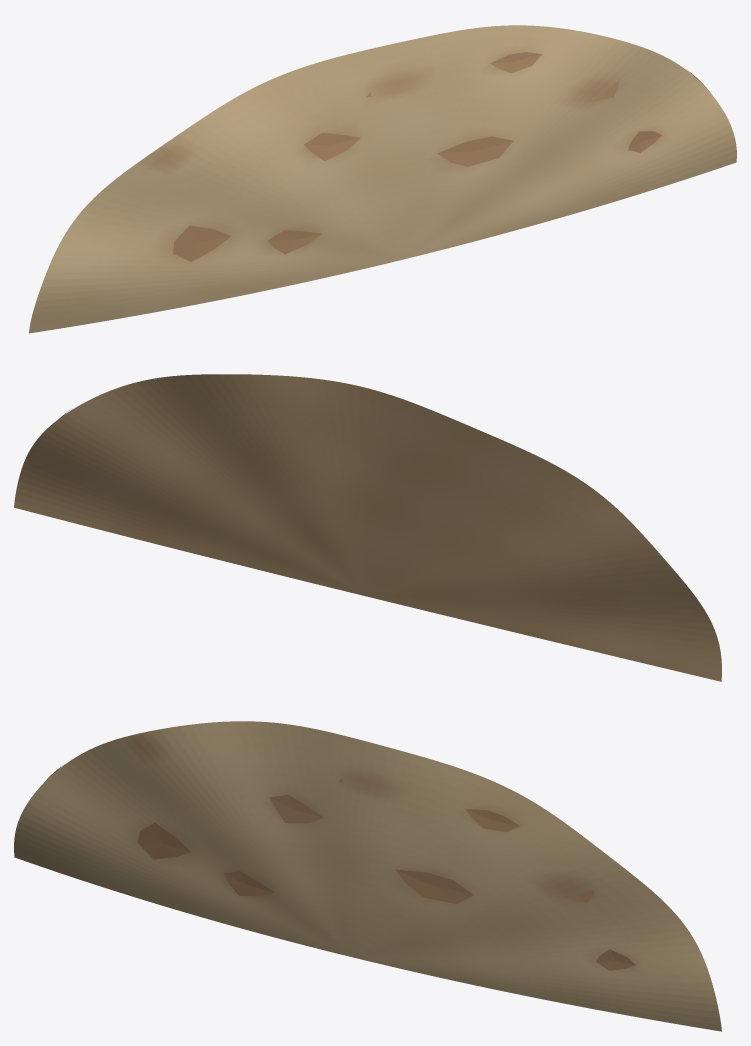
File: low_poly_herb_qutab.glb
3 renders of one model, top to bottom at view 1: azimuth 30°, elevation 25°; view 2: azimuth 150°, elevation 25°; view 3: azimuth 330°, elevation 25°, orthographic.
Visible parts, largest first — view 1: Qutab_Top, Toasted_Spot_3, Toasted_Spot_1, Toasted_Spot_2, Toasted_Spot_8, Toasted_Spot_9; view 2: Qutab_Underside; view 3: Qutab_Top, Toasted_Spot_3, Toasted_Spot_1, Toasted_Spot_2, Toasted_Spot_8, Toasted_Spot_9, Toasted_Spot_7.
Part boxes in pixels (x1,y1,x2,y2): Qutab_Top: [29, 25, 736, 333]; Toasted_Spot_3: [437, 136, 513, 166]; Toasted_Spot_1: [173, 225, 231, 261]; Toasted_Spot_2: [304, 133, 360, 161]; Toasted_Spot_8: [268, 230, 321, 254]; Toasted_Spot_9: [490, 52, 542, 73]; Qutab_Underside: [14, 374, 721, 681]; Qutab_Top: [14, 721, 721, 1031]; Toasted_Spot_3: [395, 869, 473, 904]; Toasted_Spot_1: [137, 823, 190, 859]; Toasted_Spot_2: [269, 794, 323, 823]; Toasted_Spot_8: [223, 871, 274, 895]; Toasted_Spot_9: [465, 809, 519, 831]; Toasted_Spot_7: [596, 949, 635, 970].
Bounding box in the file's own units: 1.56 × 0.4309 × 0.13.
